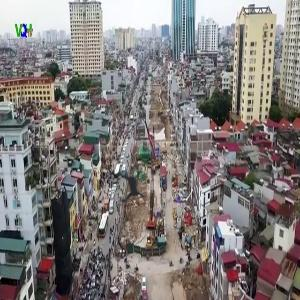drone: (90, 148, 170, 228)
